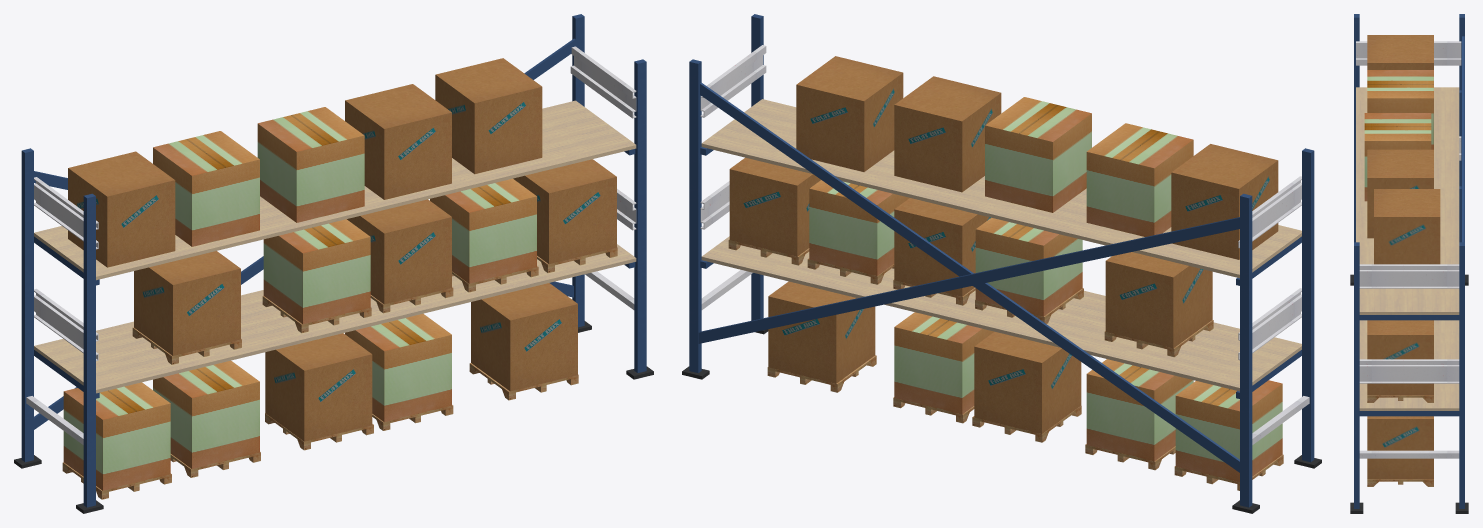
File: BigShelves04Group1.FBX
3 renders of one model, left to right at view 1: azimuth 30°, elevation 25°; view 2: azimuth 150°, elevation 25°; view 3: azimuth 270°, elevation 25°, orthographic. The views are drawn at different scales.
Parts seen in each view (by area): view 1: Cardboard_box05, Cardboard_box01, BigShelves04, BigShelvesWoodBox; view 2: Cardboard_box05, BigShelves04, Cardboard_box01, BigShelvesWoodBox; view 3: BigShelves04, Cardboard_box05, Cardboard_box01, BigShelvesWoodBox.
Boxes of the visible parts, box(x1,y1,x2,y2) form: Cardboard_box05: box(68, 58, 616, 441); Cardboard_box01: box(63, 107, 536, 490); BigShelves04: box(14, 14, 653, 513); BigShelvesWoodBox: box(62, 247, 617, 499); Cardboard_box05: box(729, 56, 1278, 433); BigShelves04: box(682, 14, 1321, 513); Cardboard_box01: box(809, 97, 1282, 482); BigShelvesWoodBox: box(728, 239, 1283, 490); BigShelves04: box(1350, 14, 1468, 513); Cardboard_box05: box(1367, 35, 1440, 479); Cardboard_box01: box(1364, 70, 1433, 201); BigShelvesWoodBox: box(1367, 395, 1433, 486).
Bounding box in the file's own units: 337 × 177 × 71.17.
